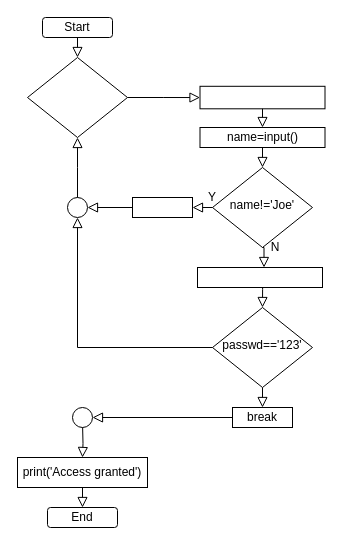
Some shapes in this 343 by 545 pixel diagram are drawn without their labels. The shapes that lost their labels are listed below. From the top down, each one's centre as x and y in pixels, then its label:
the point at 77,97: True?
the point at 262,97: print('Who are you?')
the point at 162,207: continue
the point at 259,277: passwd=input()
